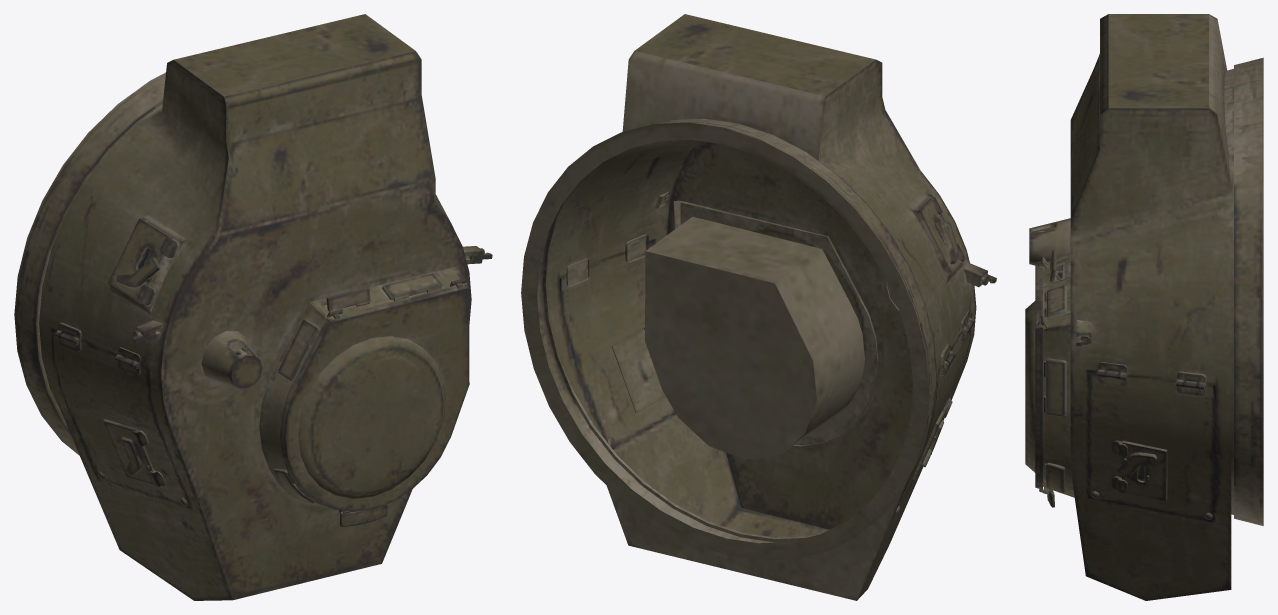
The model's file is Turret_02.glb.
3 views of the same model, side by side, from view 1: azimuth 30°, elevation 25°; view 2: azimuth 150°, elevation 25°; view 3: azimuth 270°, elevation 25° (orthographic).
Visible parts, largest first — view 1: set_0_group_0; view 2: set_0_group_0; view 3: set_0_group_0.
Boxes of the visible parts, <box> form: set_0_group_0: <box>14,14,492,600</box>; set_0_group_0: <box>521,14,996,600</box>; set_0_group_0: <box>1025,14,1263,600</box>.
Size of the model in its own units: 1.44 by 1.73 by 0.7306.
Materials: 1 (1 with a texture image).
